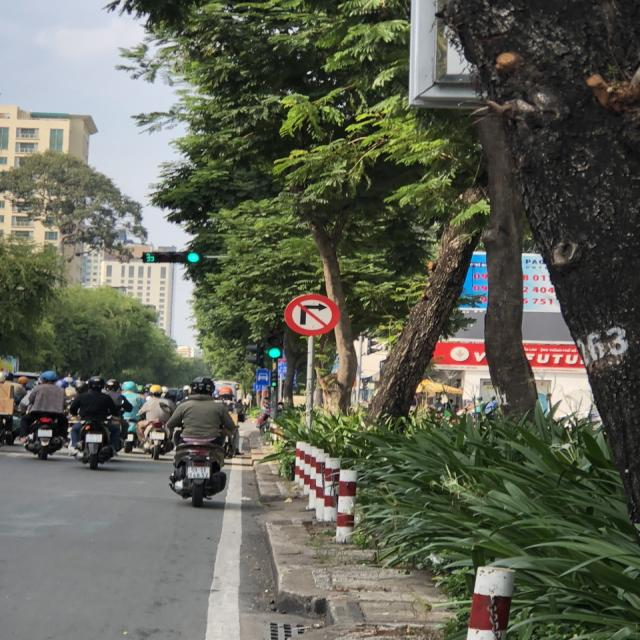Bien bao cam re phai: (276, 291, 346, 337)
